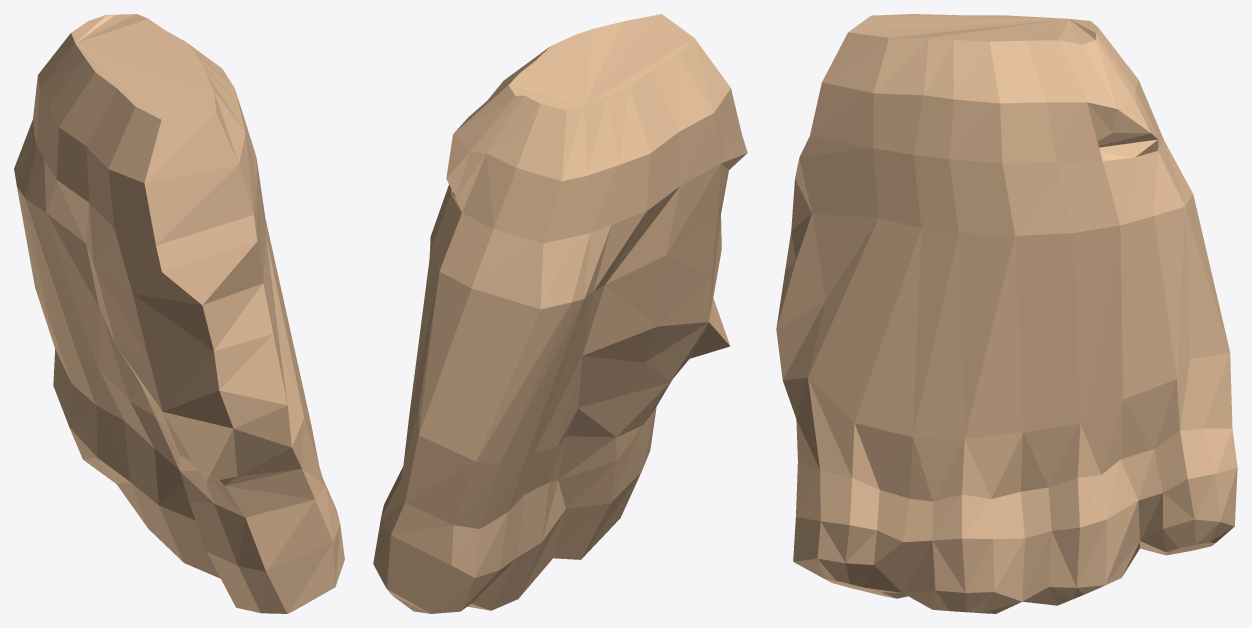
File: LHand3_mesh.dae
The picture shows the model from 3 angles, left to right: view 1: azimuth 30°, elevation 25°; view 2: azimuth 150°, elevation 25°; view 3: azimuth 270°, elevation 25°; orthographic projection.
Visible parts, largest first — view 1: LHand3; view 2: LHand3; view 3: LHand3.
Part boxes in pixels (x1=…): LHand3: x1=14, y1=14, x2=344, y2=613; LHand3: x1=373, y1=14, x2=747, y2=613; LHand3: x1=776, y1=14, x2=1237, y2=613.
Bounding box in the file's own units: 0.0456 × 0.1057 × 0.0807.
